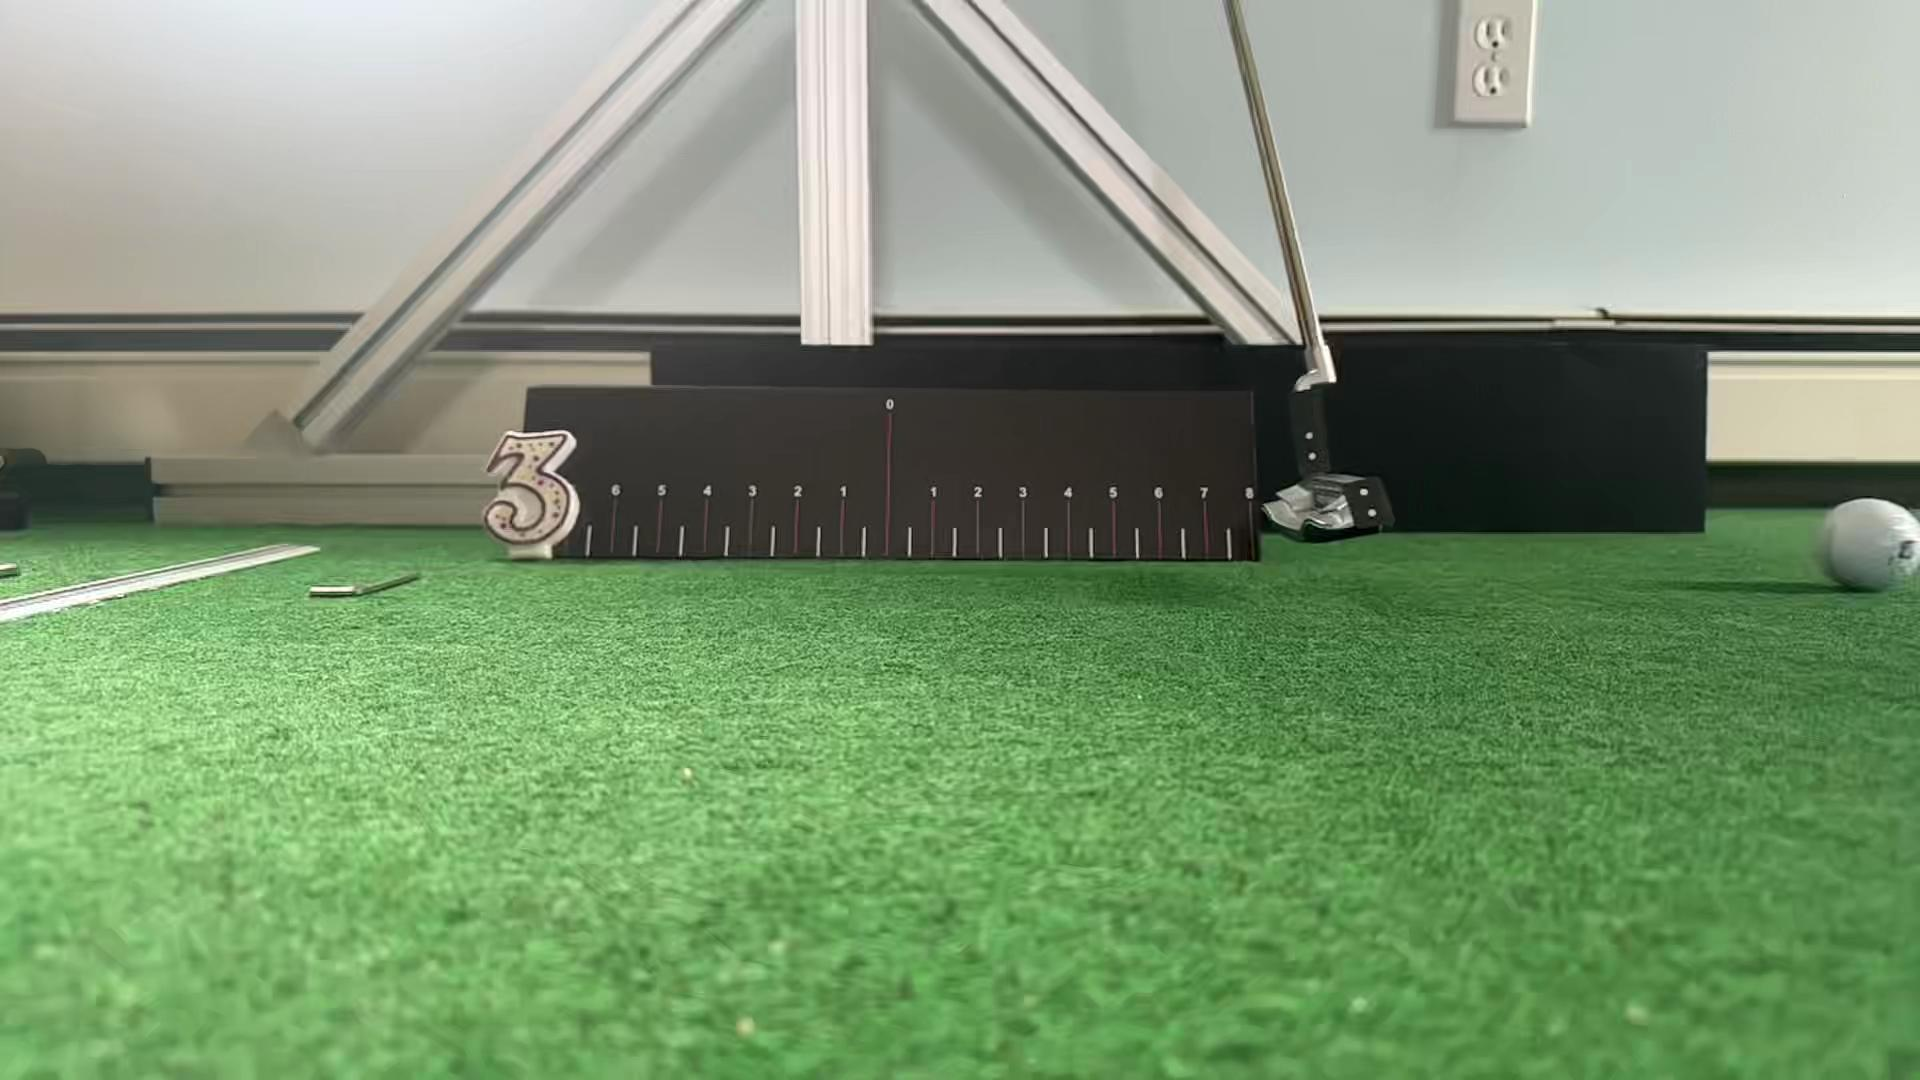golfball: (1814, 500, 1920, 590)
